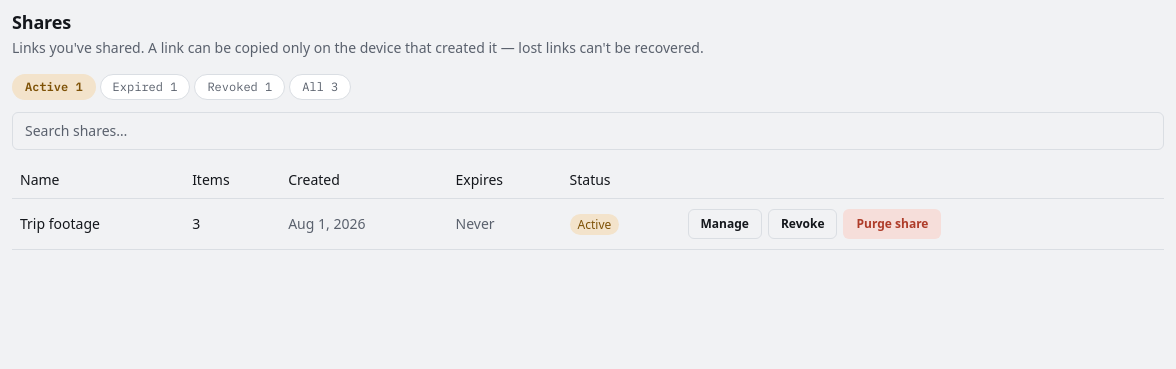
SharesSection › mounts with the Active chip applied — past shares invisible until asked for
Expected: the text "Trip footage" is shown, [12, 198, 184, 249]
Expected: the text "Old share" is not shown
One chip at a time: pressing All drops Active's pressed state.
Click the button "All 3": (320,87) [289, 74, 351, 100]
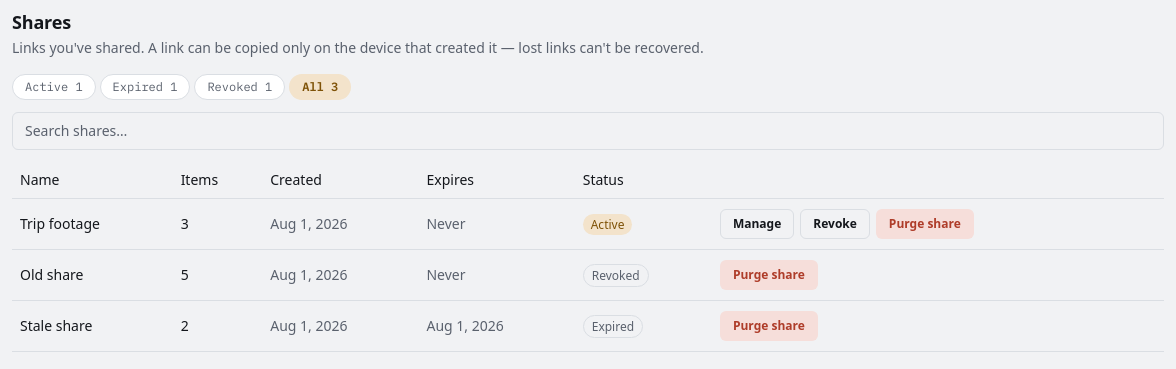
Result: the text "Old share" is shown at [12, 249, 173, 300]
Result: the text "Stale share" is shown at [12, 300, 173, 351]
…and the Revoked chip narrows to revoked rows only.
Click the button "Revoked 1": (240,87) [194, 74, 285, 100]
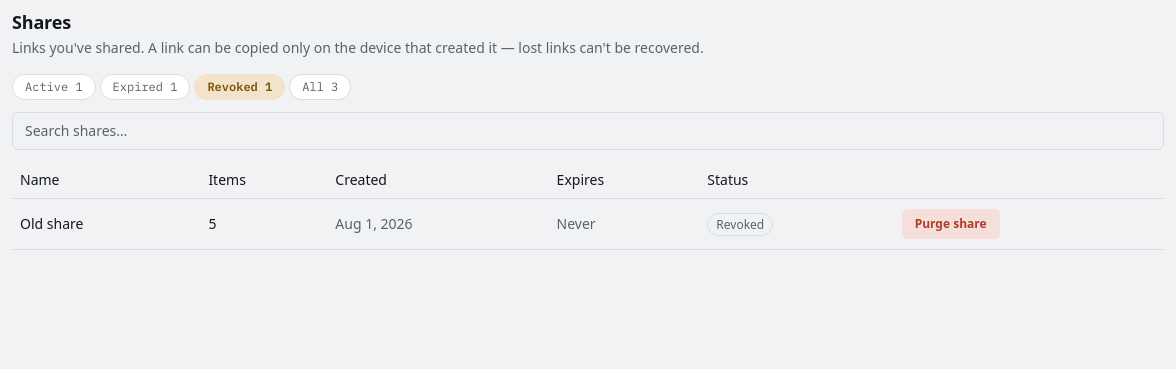
Result: the text "Old share" is shown at [12, 198, 200, 249]
Result: the text "Trip footage" is gone
Result: the text "Stale share" is gone
